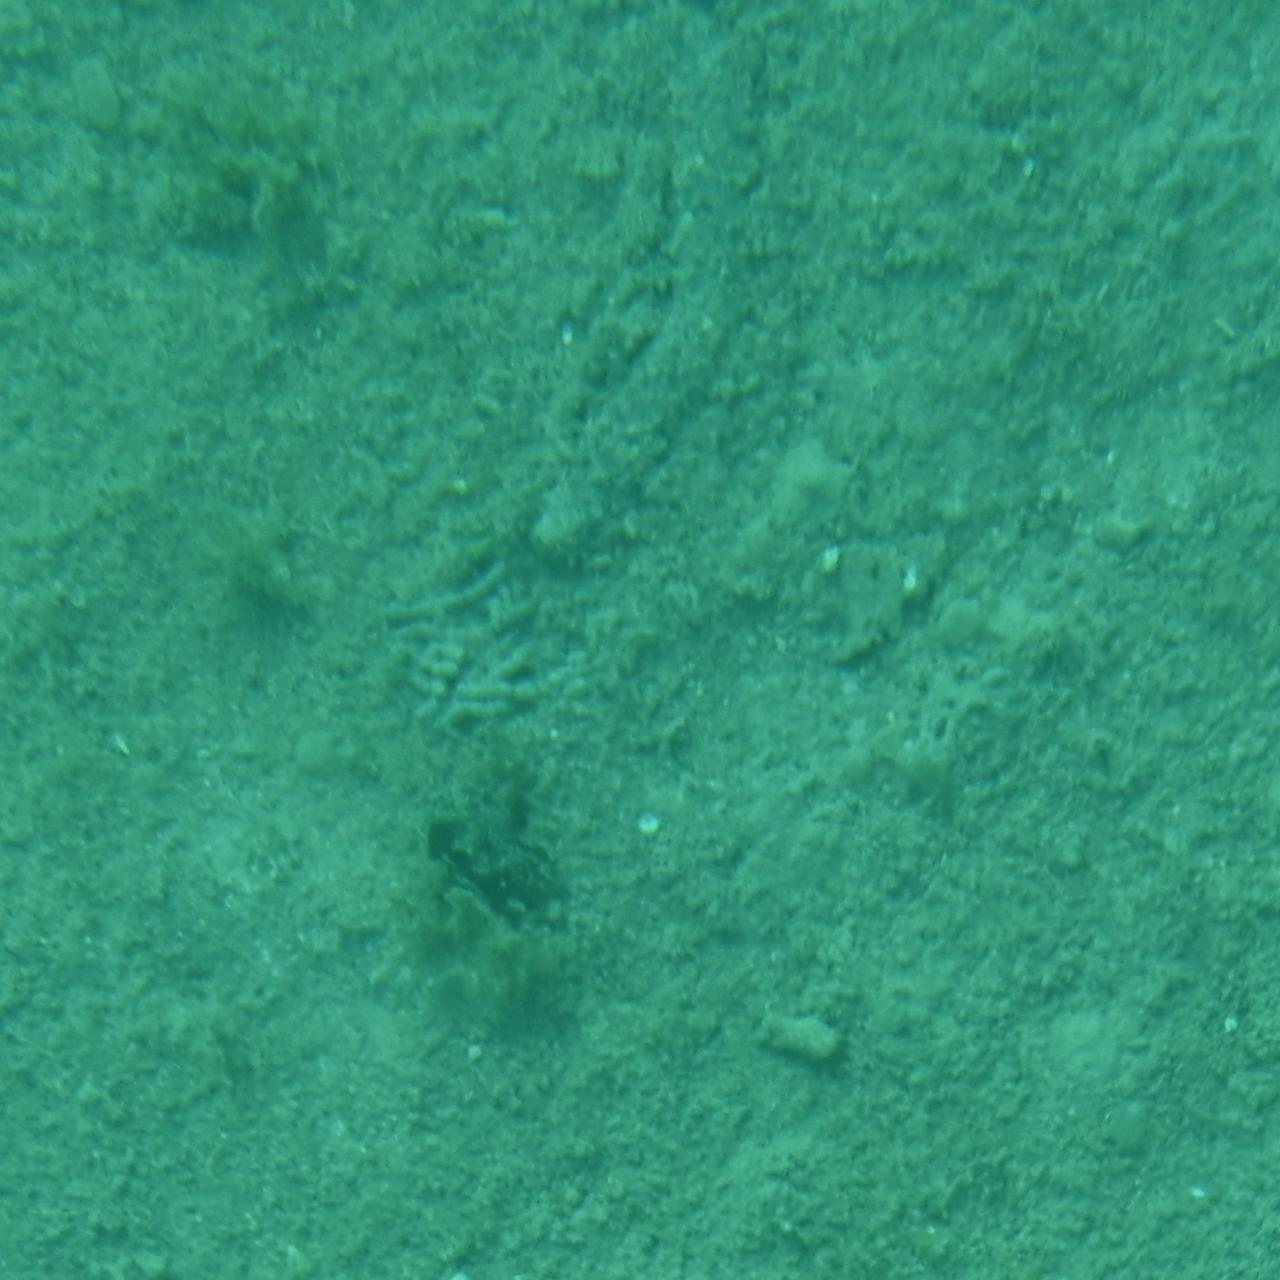Holothuria tubulosa: (524, 14, 756, 570)
